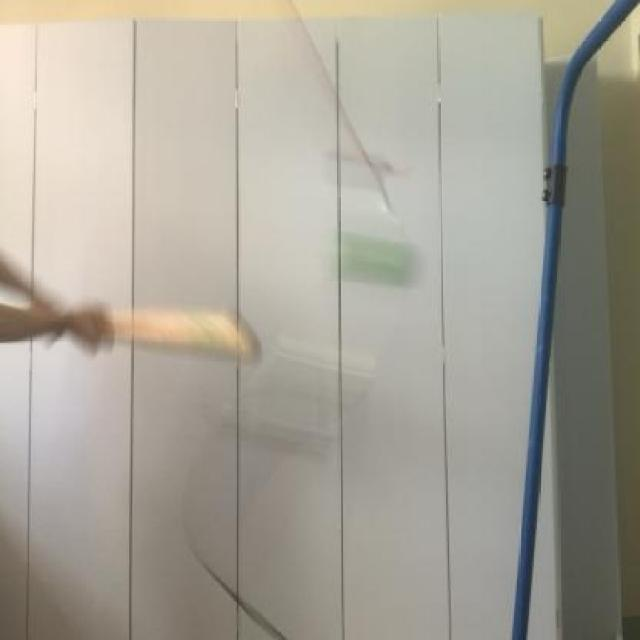baseball: (322, 216, 438, 296)
